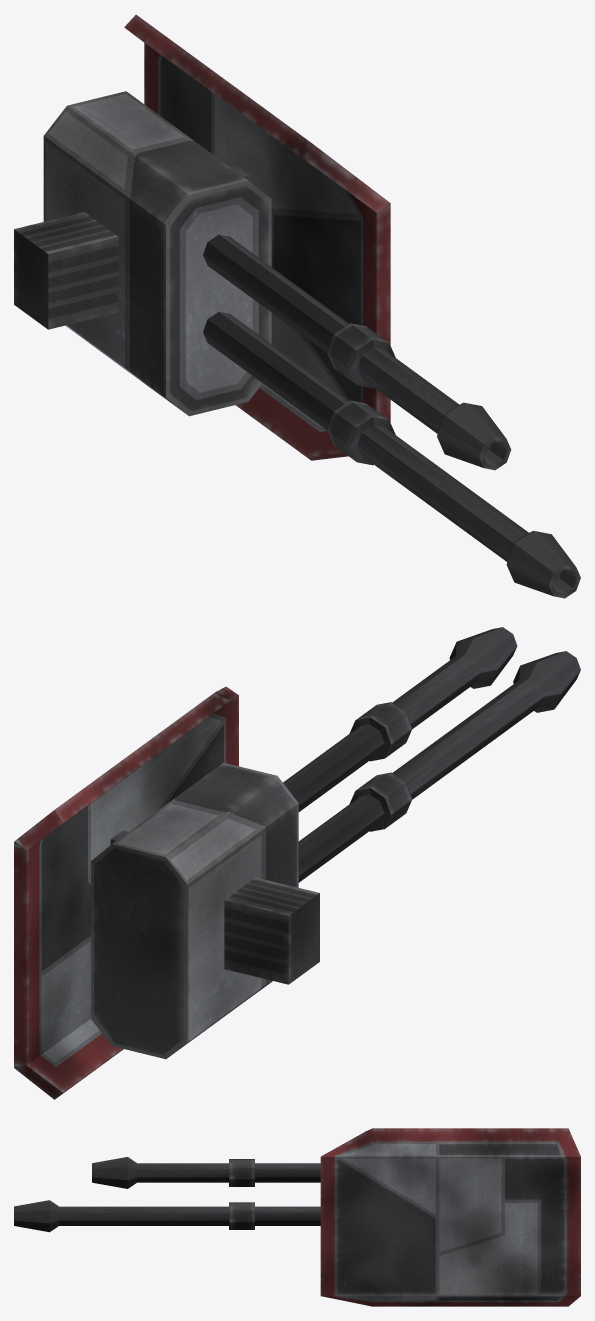
Rendered from Weapon5.fbx.
3 views of the same model, one above another, from view 1: azimuth 30°, elevation 25°; view 2: azimuth 150°, elevation 25°; view 3: azimuth 270°, elevation 25° (orthographic). The views are drawn at different scales.
Parts seen in each view (by area): view 1: Weapon5; view 2: Weapon5; view 3: Weapon5.
Part boxes in pixels (x1,y1,x2,y2): Weapon5: [14, 14, 580, 598]; Weapon5: [14, 627, 580, 1099]; Weapon5: [14, 1128, 580, 1306].
Size of the model in its own units: 63.18 by 86.18 by 249.
